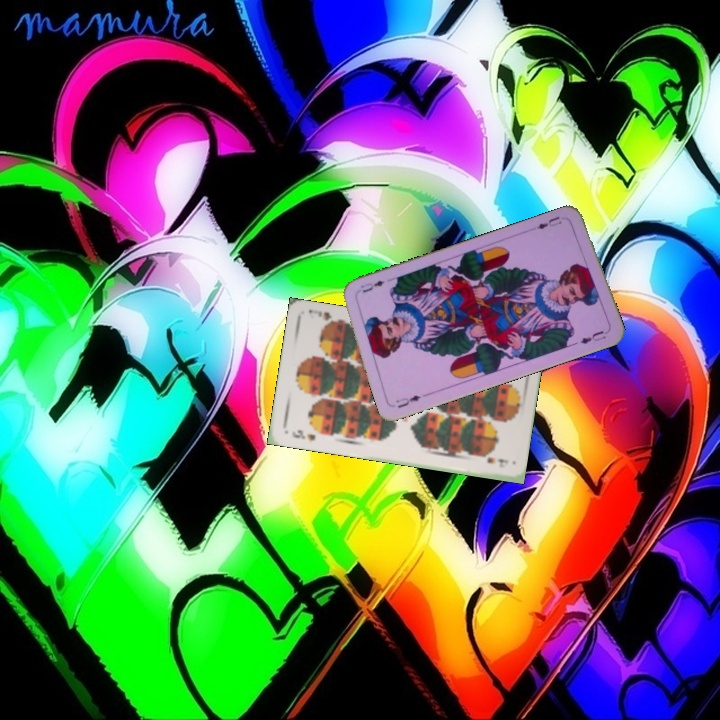EU: (392, 391, 424, 411), (533, 212, 564, 232)
S9: (288, 426, 318, 443)
